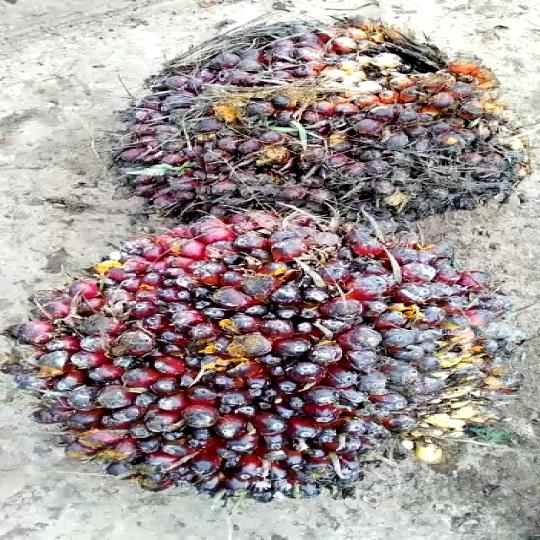kurang masak: (0, 214, 497, 500), (111, 19, 540, 225)
